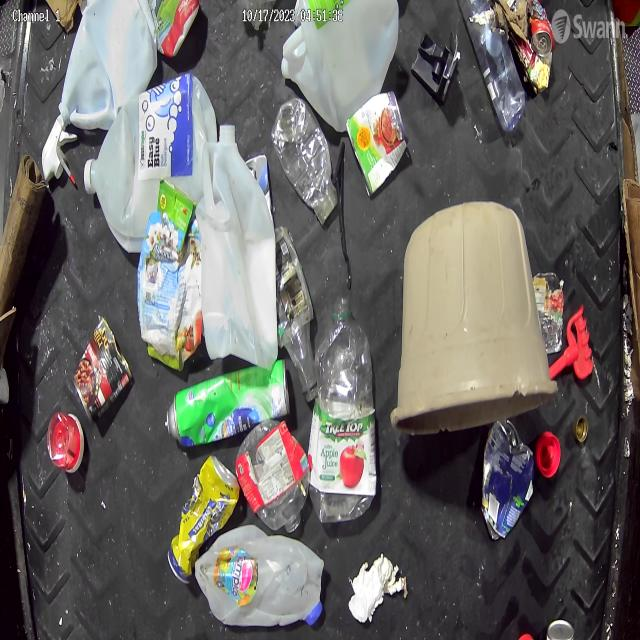can: (164, 358, 291, 448), (482, 416, 537, 543), (349, 90, 409, 198), (72, 316, 133, 421), (532, 271, 564, 354), (530, 16, 556, 56)
milk_jug: (83, 73, 218, 255), (196, 125, 277, 362), (279, 1, 400, 133), (194, 527, 326, 630), (58, 0, 158, 131)
non_white_jug: (136, 180, 202, 373)
plastic_bottle: (309, 298, 378, 522), (272, 101, 340, 223)
